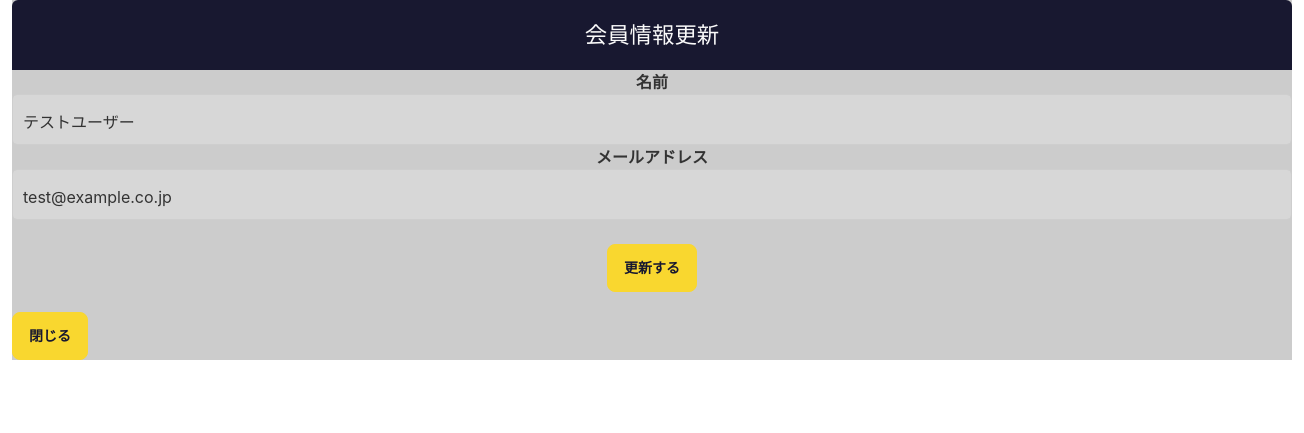
Scenario: Edit email › メールアドレスが空の場合、エラーメッセージを表示
Clear the 2nd field with placeholder "Type email here" at (652, 194), box [12,169,1292,220]
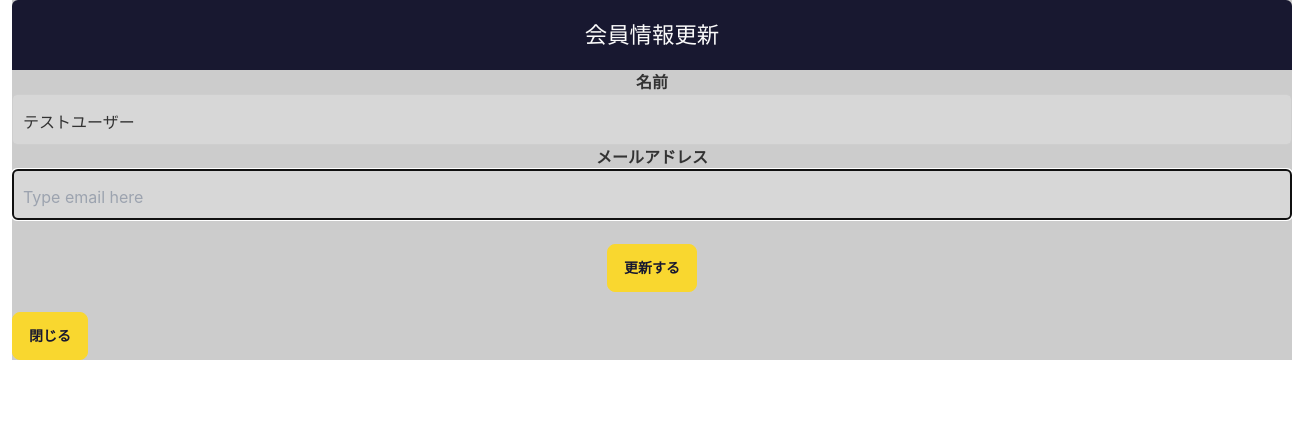
Click the button "更新する" at (652, 268), box [607,244,697,292]
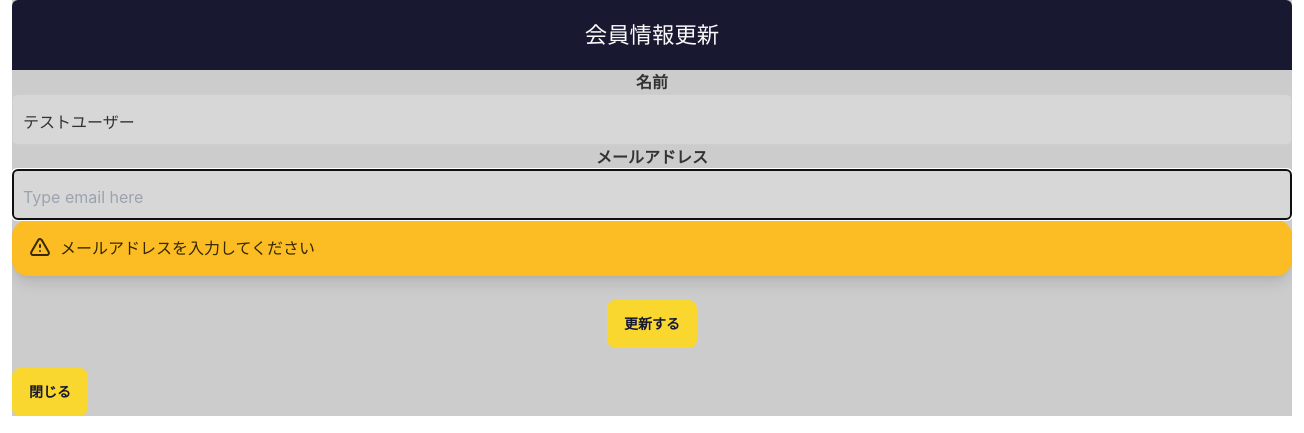
expect the text "メールアドレスを入力してください" is shown: met, box [60,236,315,260]
